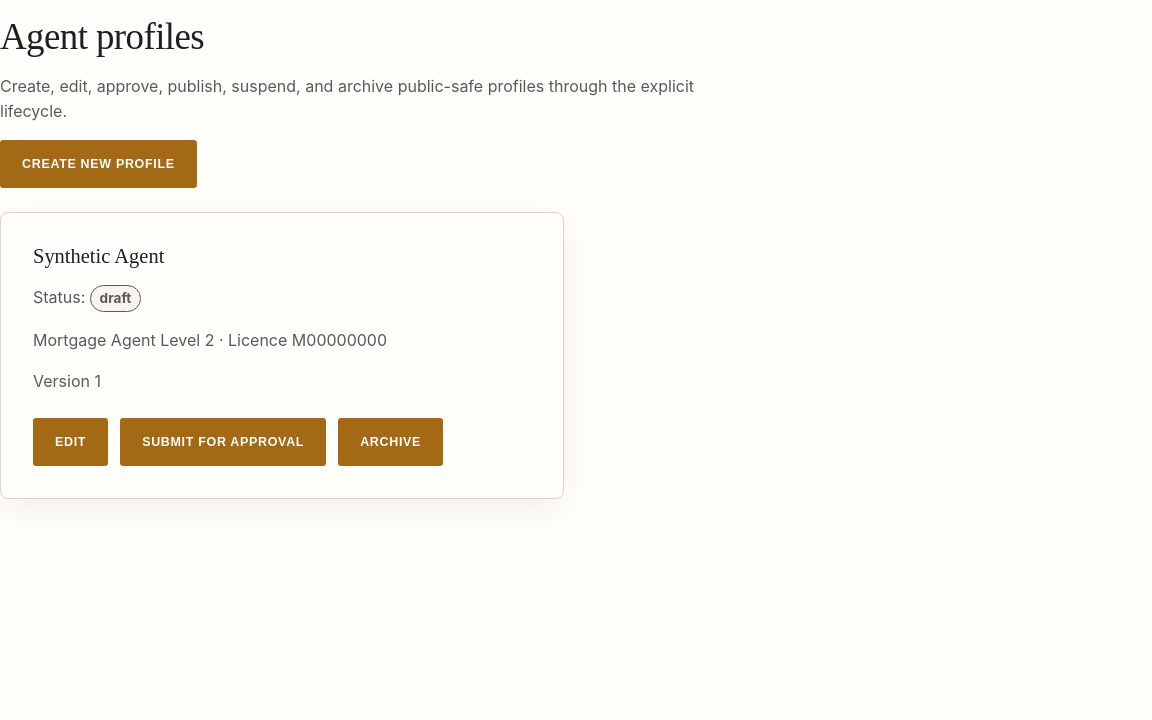
admin agent profile manager › surfaces the API's validation message instead of a catch-all
The width and height of the screenshot is (1152, 720).
Click the button with aria-label "edit synthetic agent".
click(71, 442)  # box [33, 418, 108, 466]
(page scrolled)
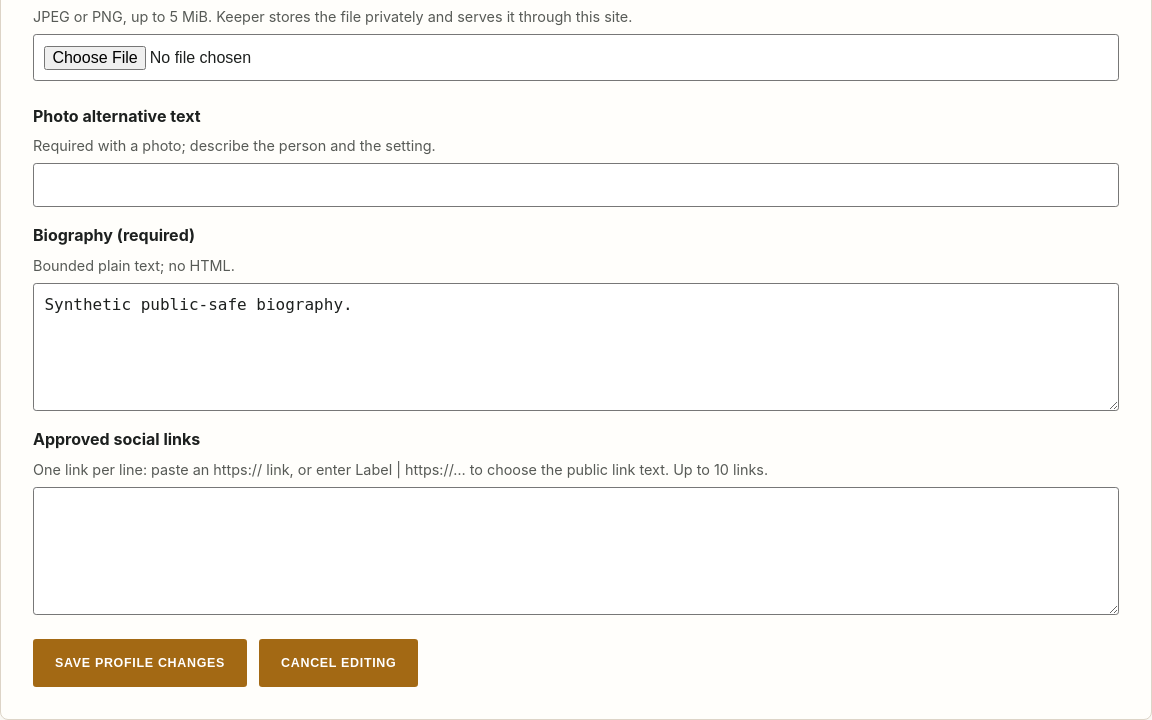
Click the button "Save profile changes".
click(140, 663)  # box [33, 639, 247, 687]
(page scrolled)
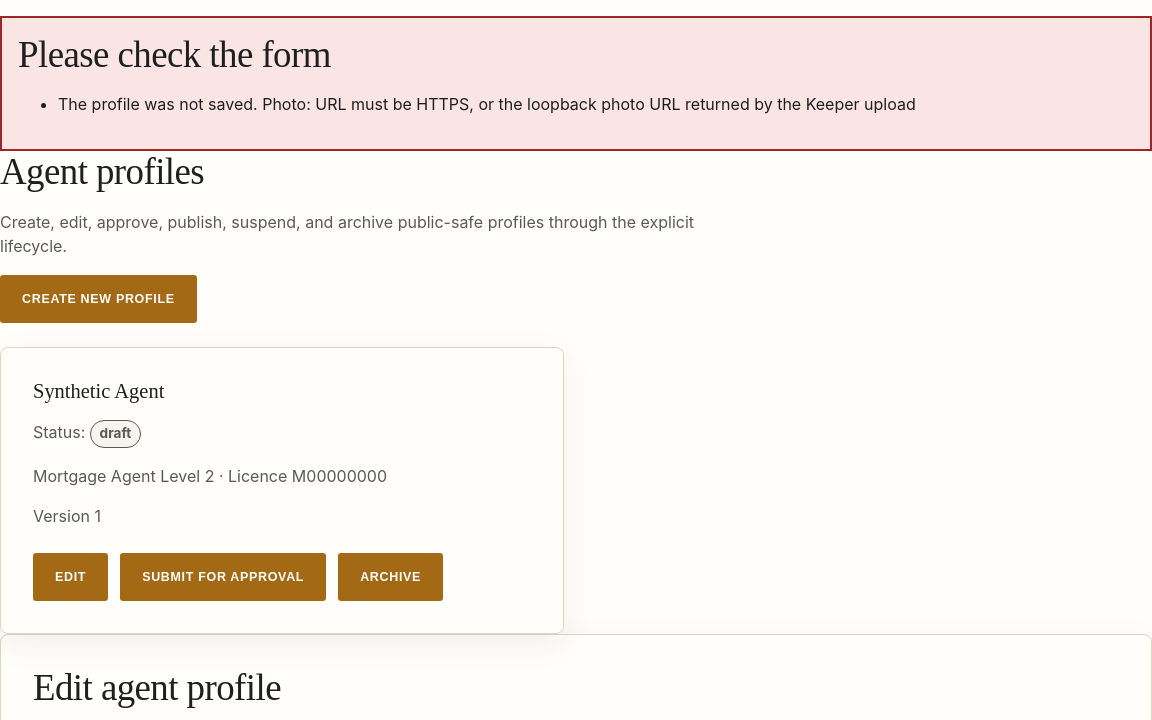
Check: the message shows "The profile was not saved.", box [58, 94, 916, 114]
Check: the message shows "URL must be HTTPS", box [58, 94, 916, 114]
Check: the message shows "Photo: URL must be HTTPS", box [58, 94, 916, 114]
